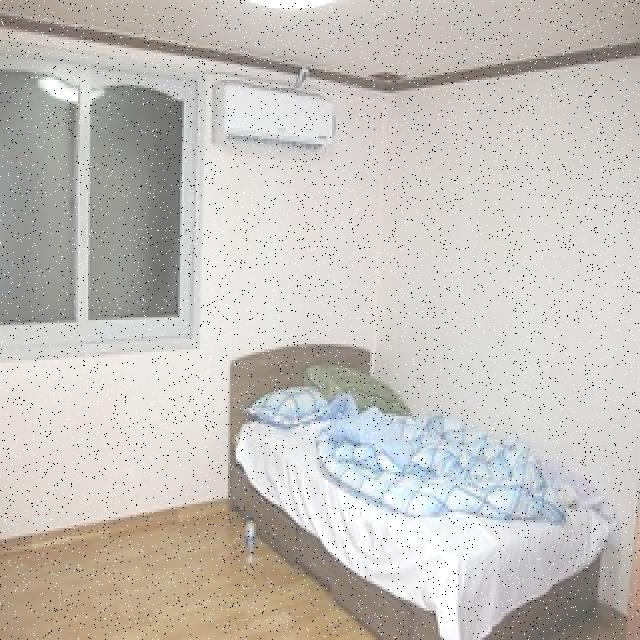bed: (234, 356, 622, 640)
